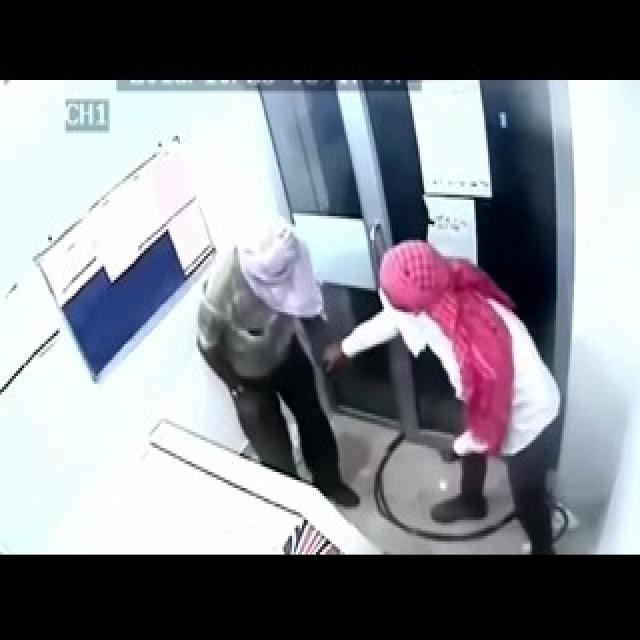thief: (210, 239, 523, 449)
